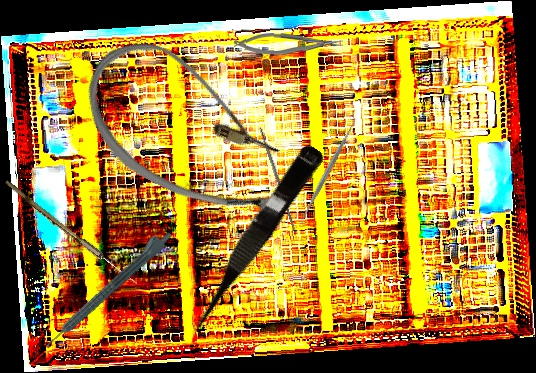Cannula: (61, 24, 325, 239)
Handpiece: (38, 224, 175, 351)
Micro Scissor: (176, 139, 327, 341)
Needle Holder: (233, 31, 344, 58)
Scalpel Handle: (258, 126, 298, 234)
Spatula Surgical: (293, 111, 364, 228)
Surgical Spoon: (2, 179, 140, 287)
